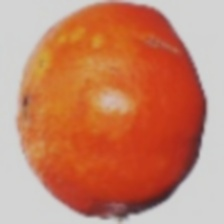tangerine: (11, 56, 190, 200)
